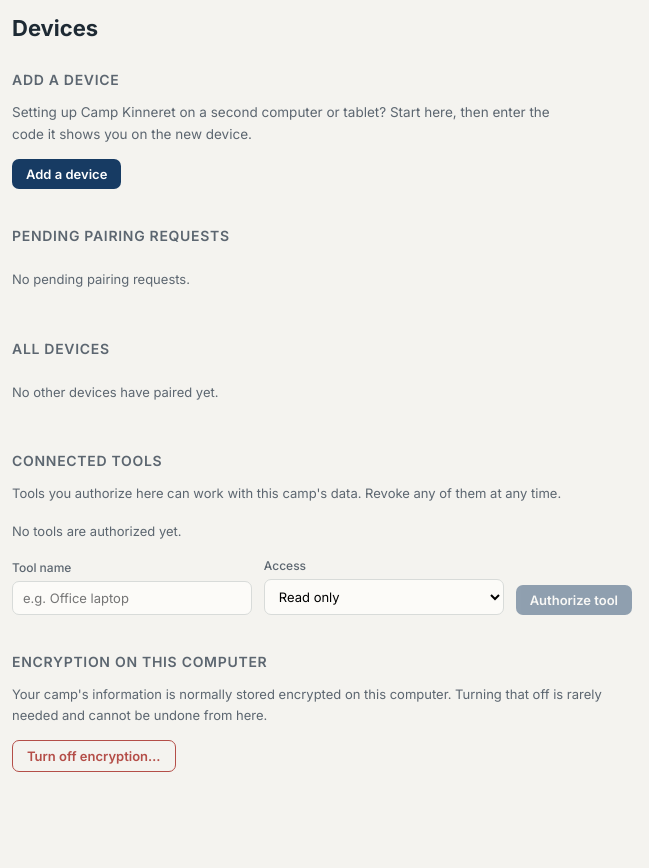
Test case: DeviceManagerScreen — adding a device › shows the code, and says the camp by name, once the window is open
The image size is (649, 868).
Expected: the text "Camp Kinneret" is shown, [81,104,176,120]
Click the button "Add a device" at (67, 174), box [12,159,121,189]
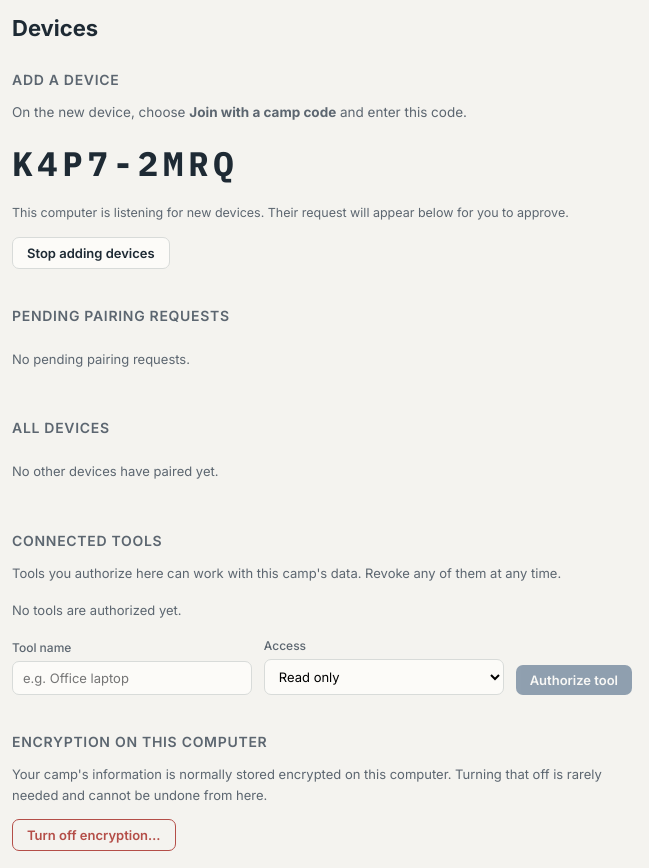
Expected: the text "K4P7-2MRQ" is shown, [12,141,238,185]
